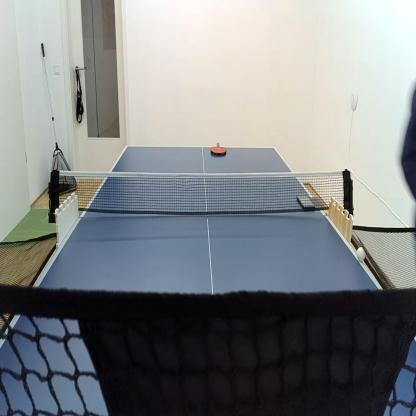Ball: (357, 247, 366, 262)
